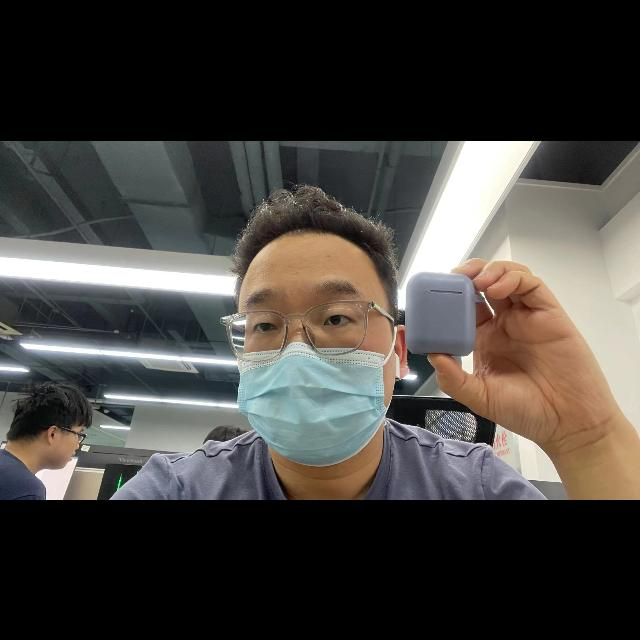airpods: (404, 273, 477, 358)
